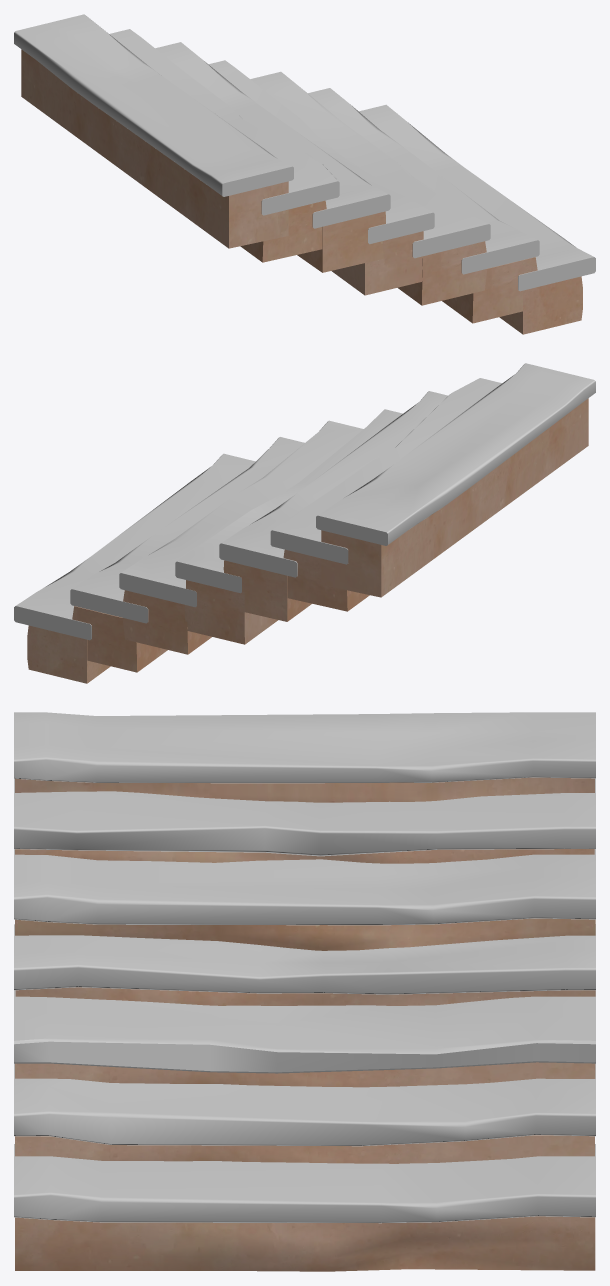
3 views of the same model, one above another, from view 1: azimuth 30°, elevation 25°; view 2: azimuth 150°, elevation 25°; view 3: azimuth 270°, elevation 25° (orthographic). The views are drawn at different scales.
Visible parts, largest first — view 1: SM_BB_T4_Stairs_Shallow_LOD0; view 2: SM_BB_T4_Stairs_Shallow_LOD0; view 3: SM_BB_T4_Stairs_Shallow_LOD0.
Part boxes in pixels (<box>): SM_BB_T4_Stairs_Shallow_LOD0: <box>14,14,595,334</box>; SM_BB_T4_Stairs_Shallow_LOD0: <box>14,363,595,683</box>; SM_BB_T4_Stairs_Shallow_LOD0: <box>14,712,595,1271</box>.
Bounding box in the file's own units: 1.57 × 0.8966 × 1.51.
